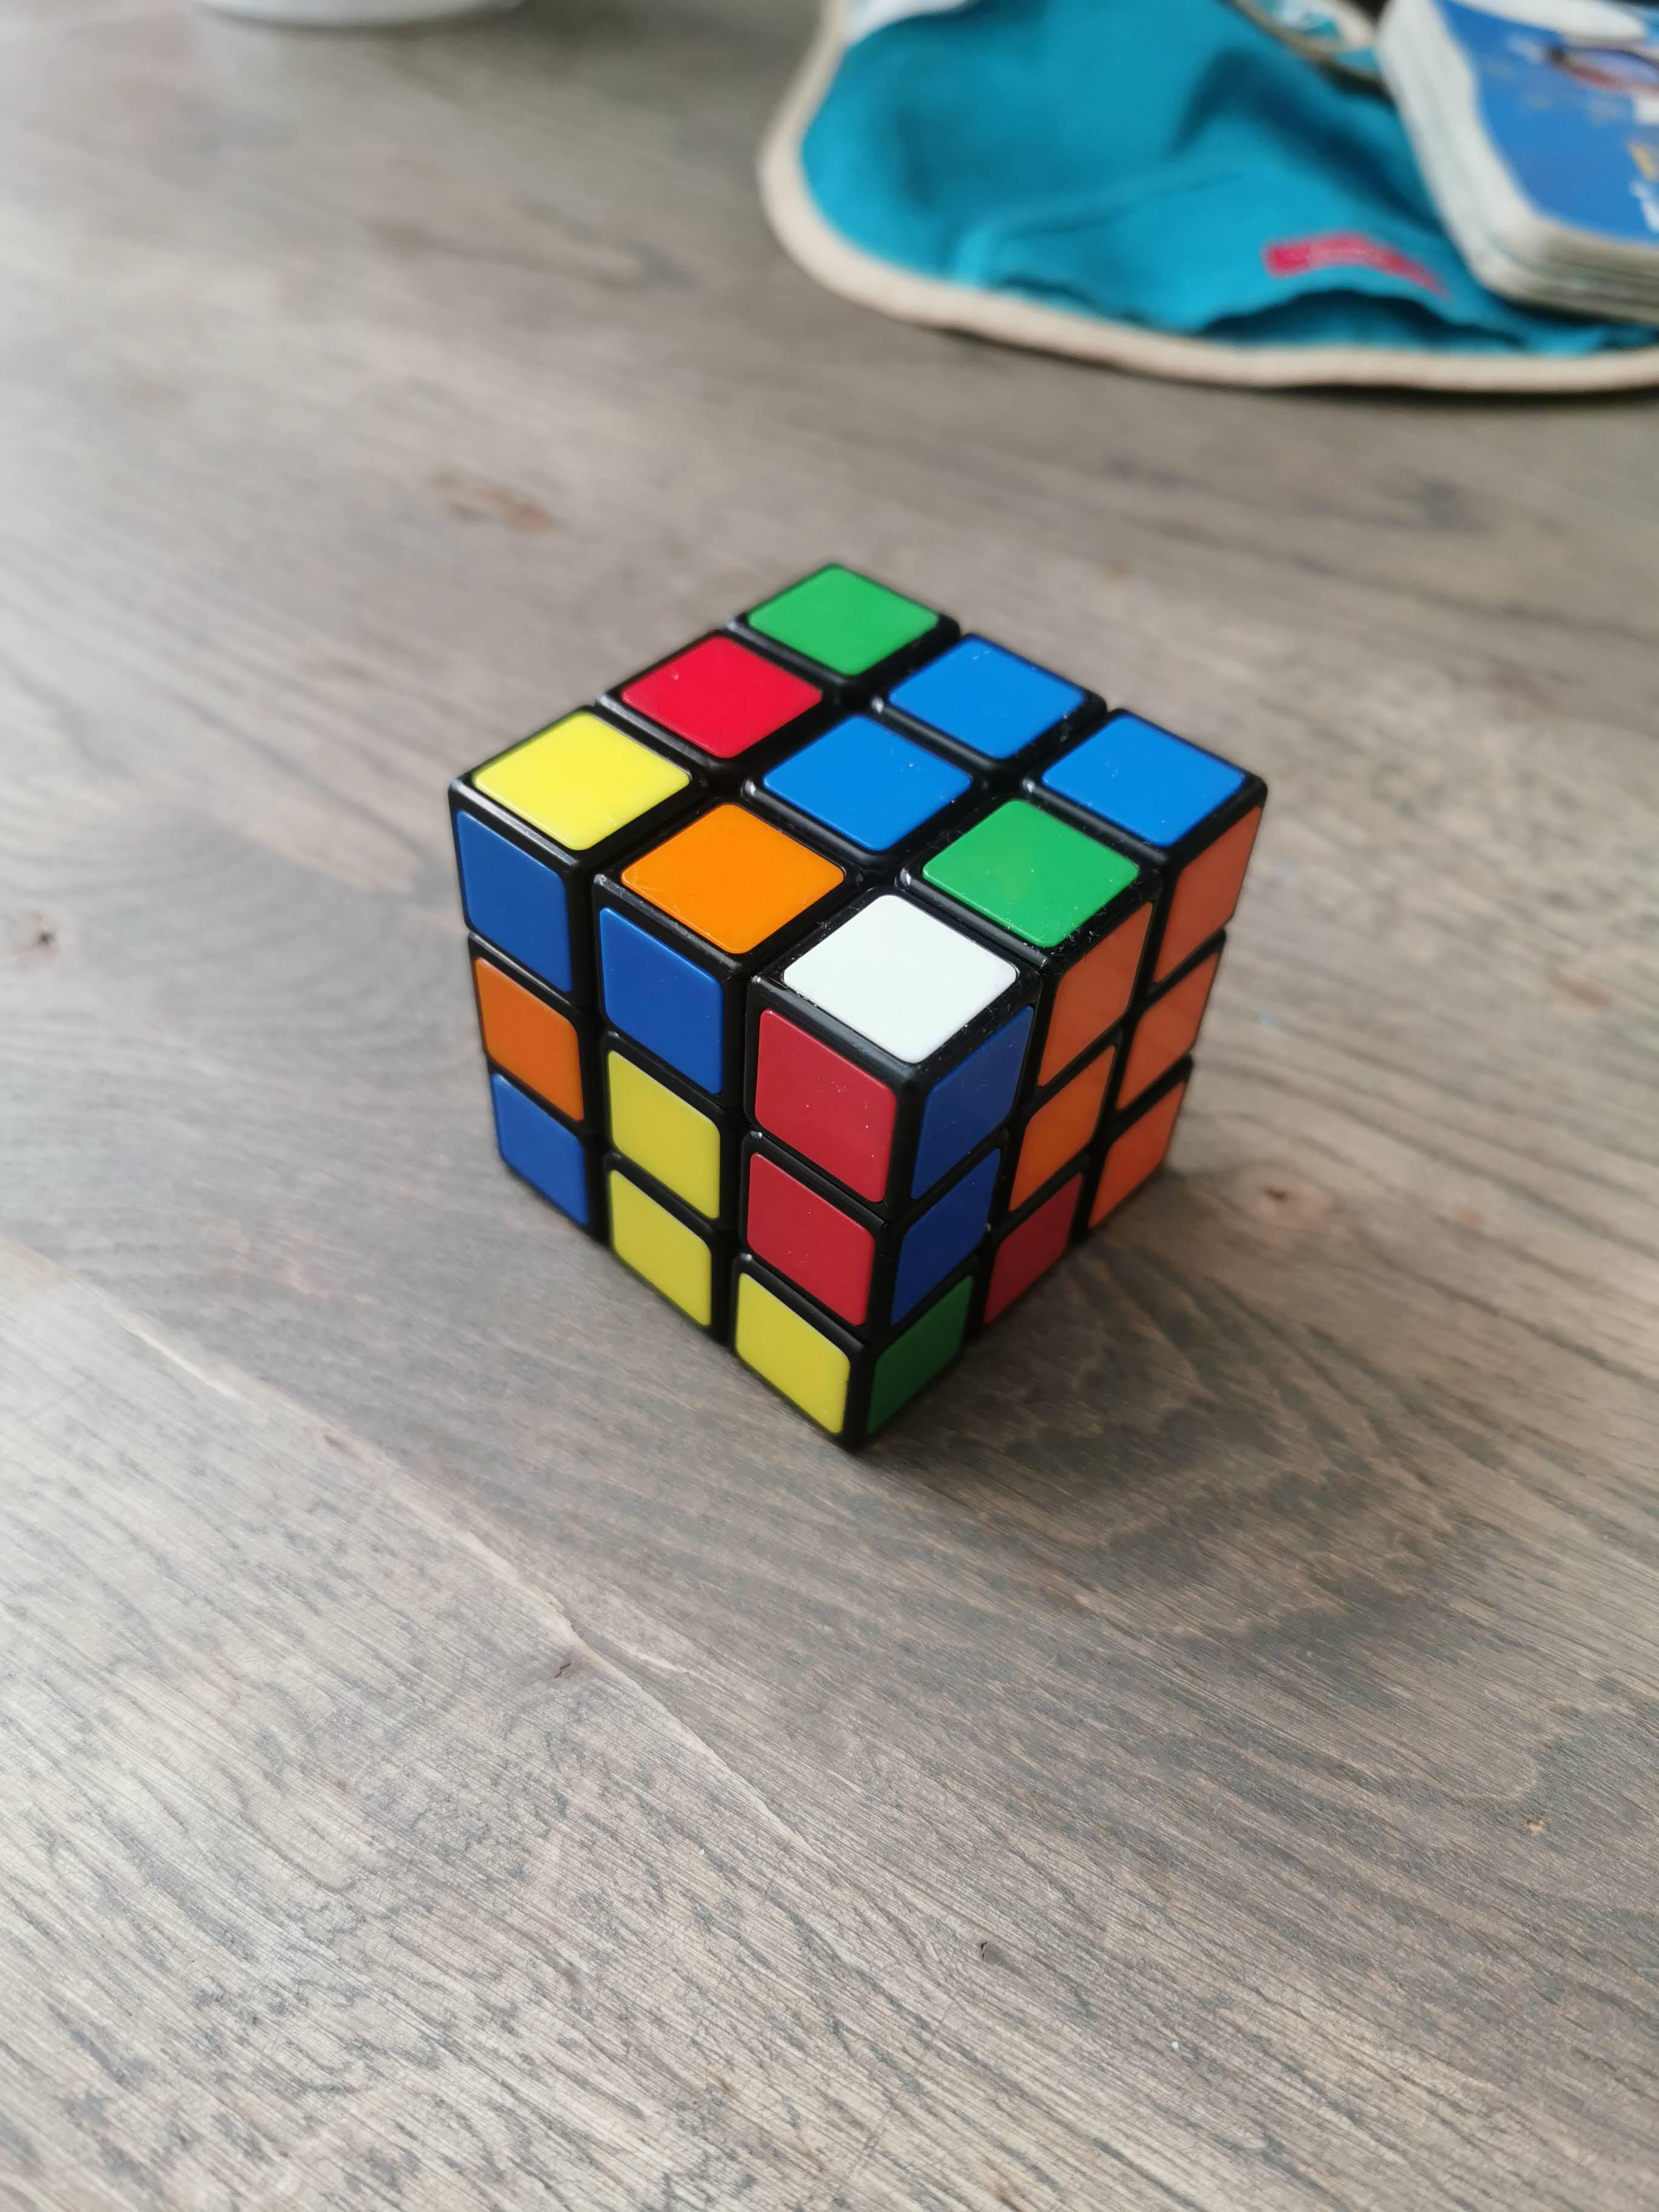cube: (448, 557, 1269, 1477)
